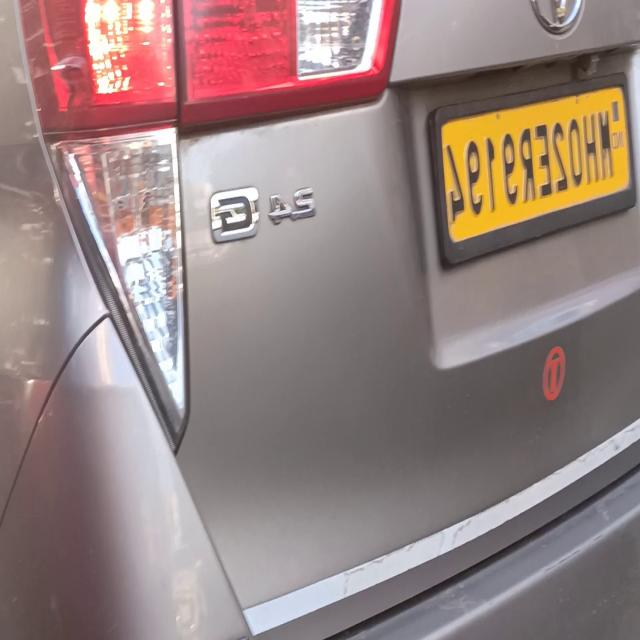license_plate: (426, 61, 638, 283)
